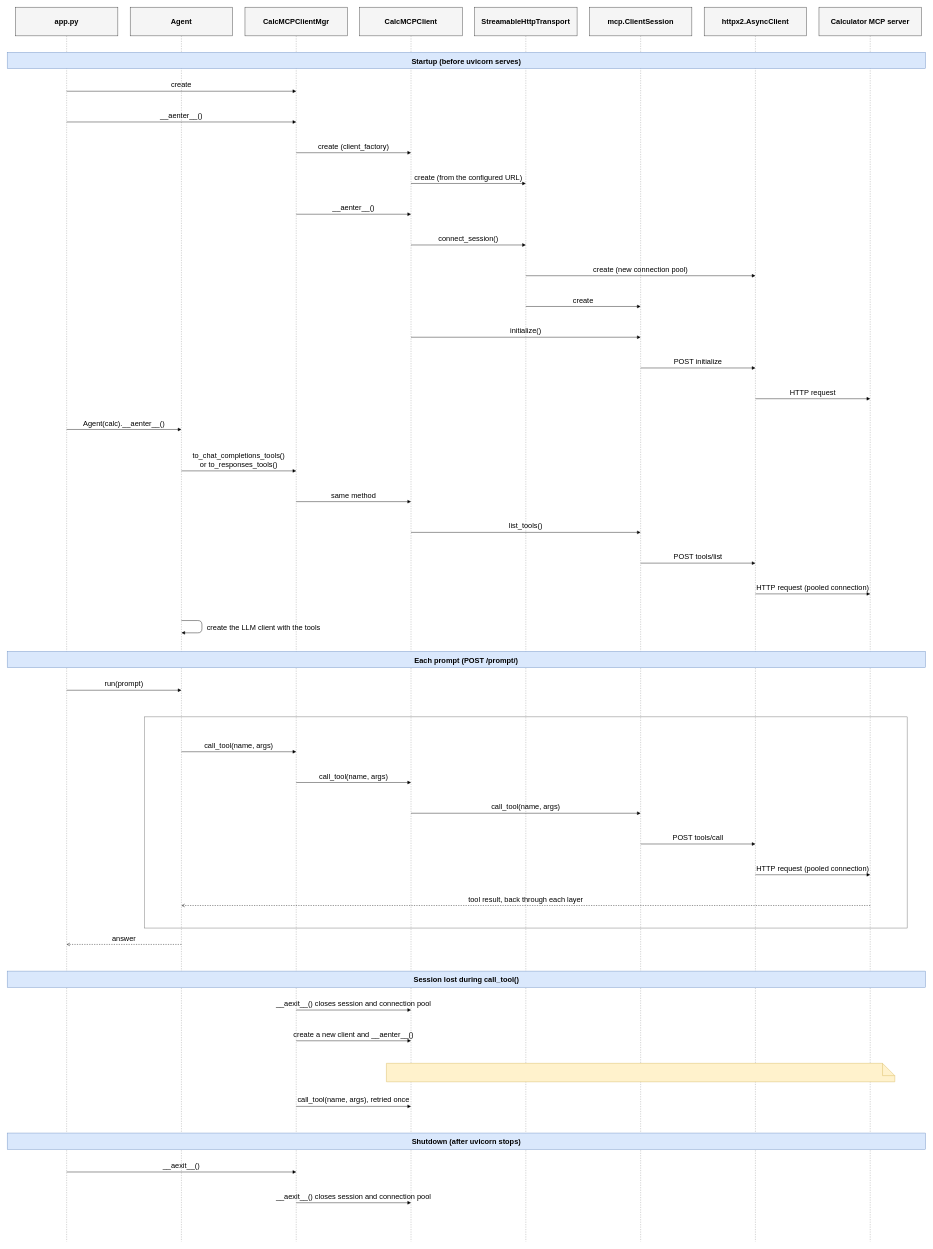
Image size: 933x1249. Some labels were removed from this diagram. Here are the shapes that lost their labels. From the top down, the box of each, then its label:
(144, 716, 907, 928): loop: each tool call the LLM requests
(386, 1063, 895, 1082): New Transport, Session, and httpx2.AsyncClient, as at startup
